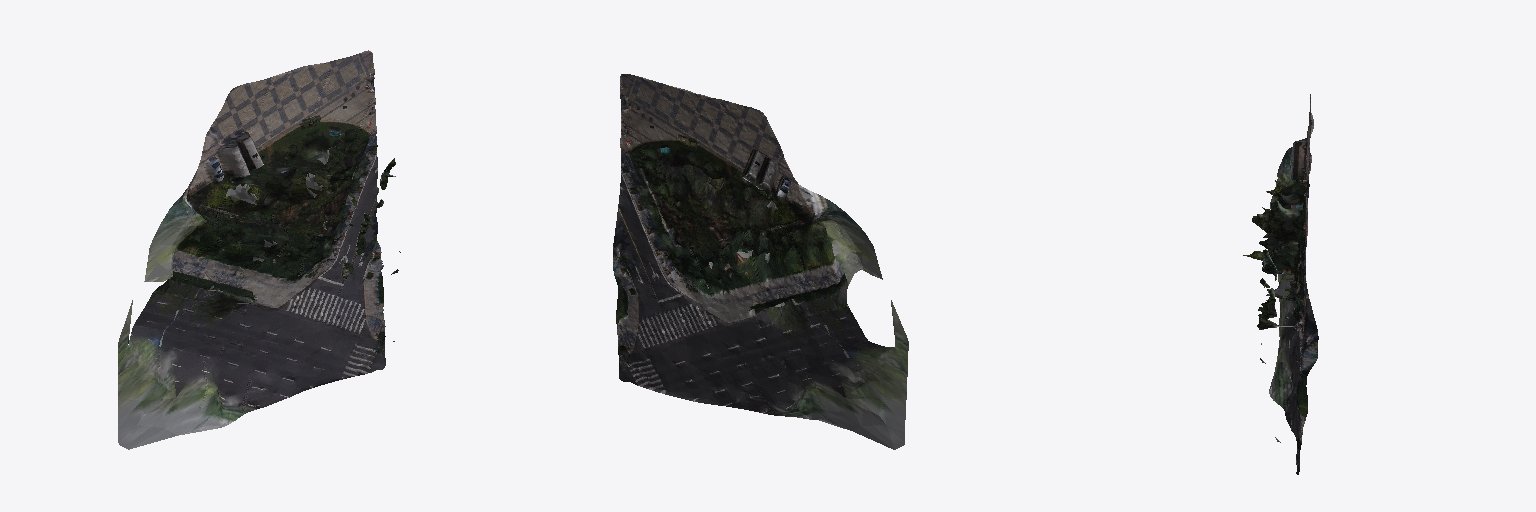
3 views of the same model, side by side, from view 1: azimuth 30°, elevation 25°; view 2: azimuth 150°, elevation 25°; view 3: azimuth 270°, elevation 25° (orthographic).
Size of the model in its own units: 55.5 by 61.96 by 13.29.
Materials: 2 (1 with a texture image).